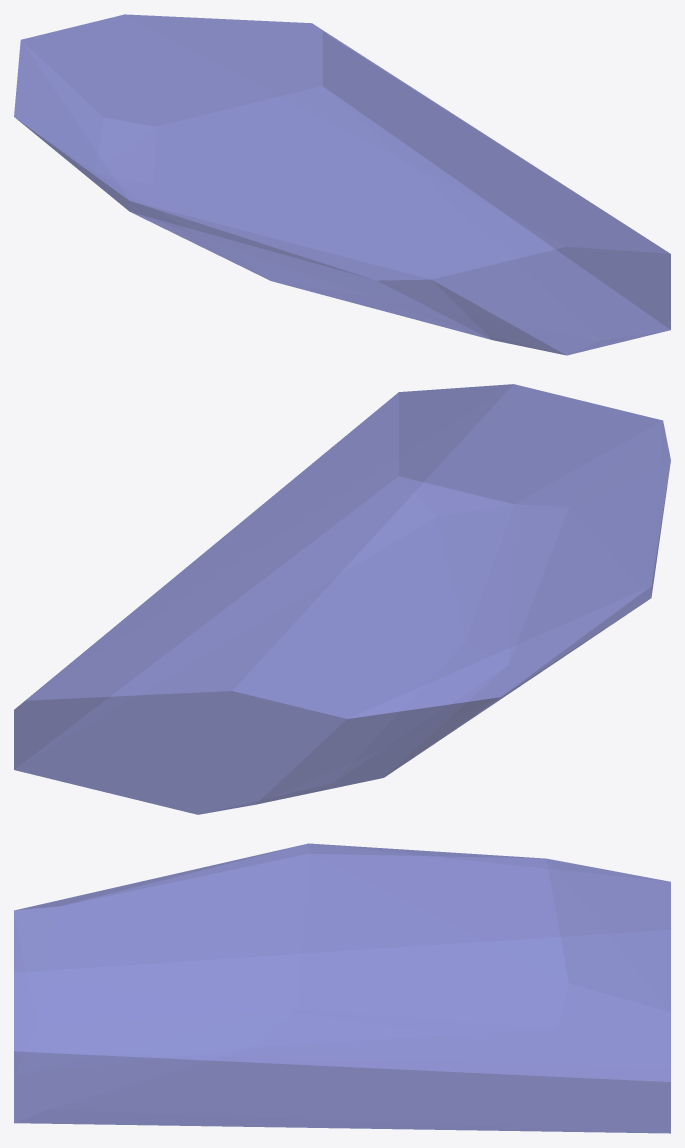
3 views of the same model, one above another, from view 1: azimuth 30°, elevation 25°; view 2: azimuth 150°, elevation 25°; view 3: azimuth 270°, elevation 25° (orthographic). The views are drawn at different scales.
Visible parts, largest first — view 1: Shape_IndexedFaceSet.028_Shape_IndexedFaceSet.5467; view 2: Shape_IndexedFaceSet.028_Shape_IndexedFaceSet.5467; view 3: Shape_IndexedFaceSet.028_Shape_IndexedFaceSet.5467.
Boxes of the visible parts, left/top/right/bottom form: Shape_IndexedFaceSet.028_Shape_IndexedFaceSet.5467: left=14, top=14, right=670, bottom=355; Shape_IndexedFaceSet.028_Shape_IndexedFaceSet.5467: left=14, top=384, right=670, bottom=814; Shape_IndexedFaceSet.028_Shape_IndexedFaceSet.5467: left=14, top=843, right=670, bottom=1133.
Size of the model in its own units: 0.0167 by 0.00495 by 0.0261.
